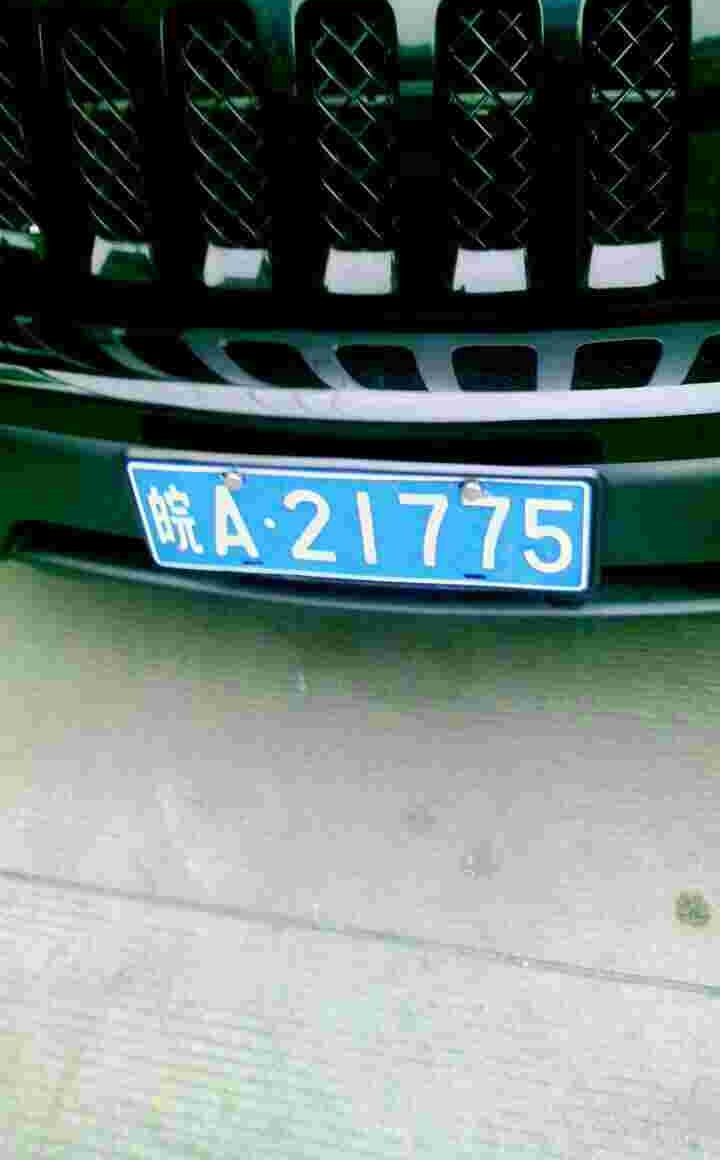license_plate: (138, 455, 592, 583)
